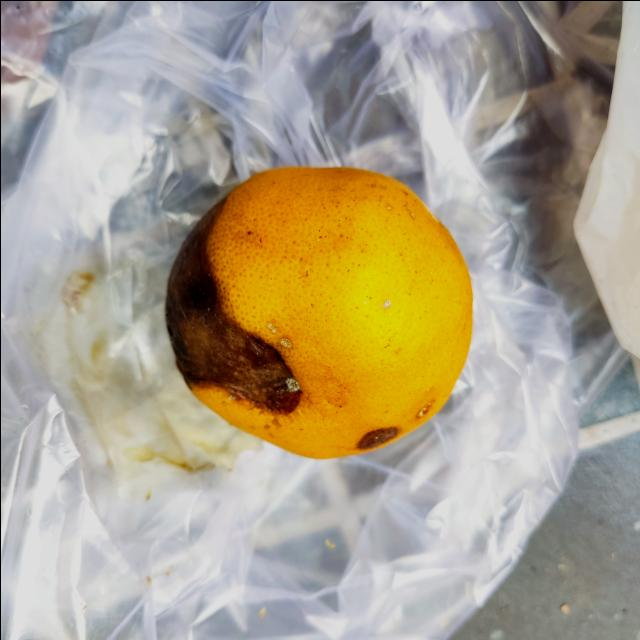orange: (158, 166, 474, 460)
